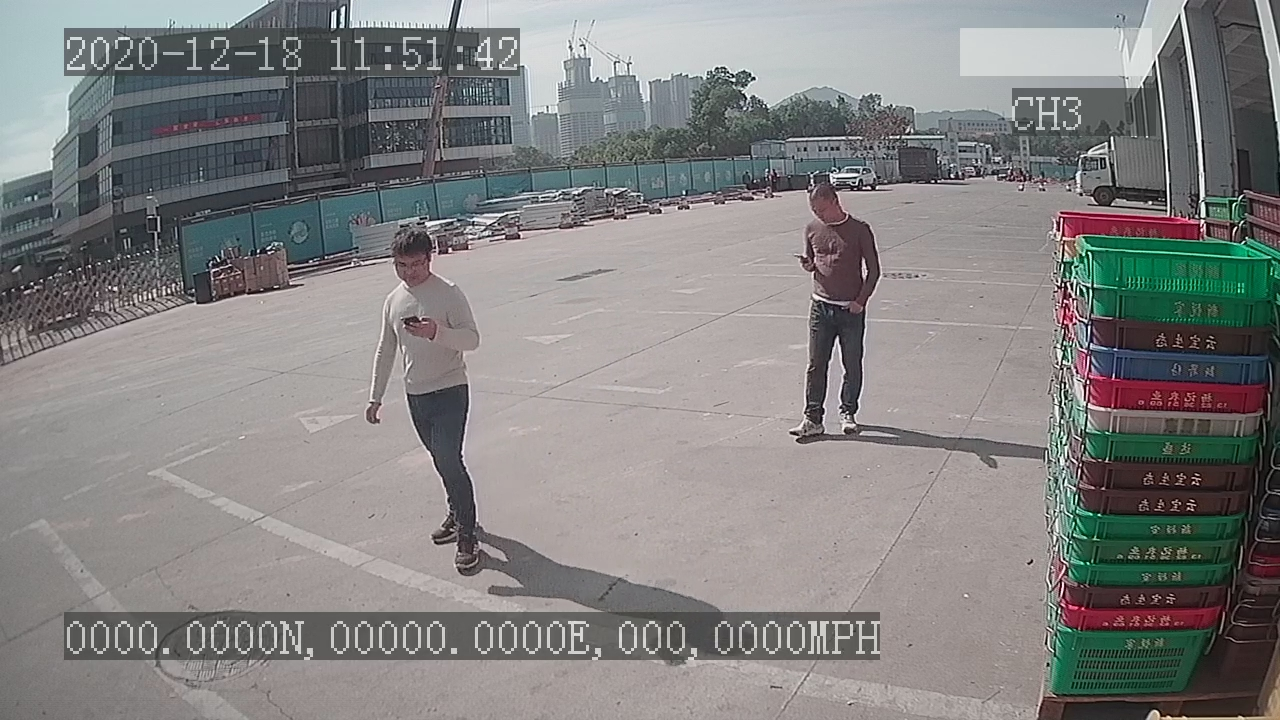person: (356, 220, 499, 588), (788, 174, 884, 444)
